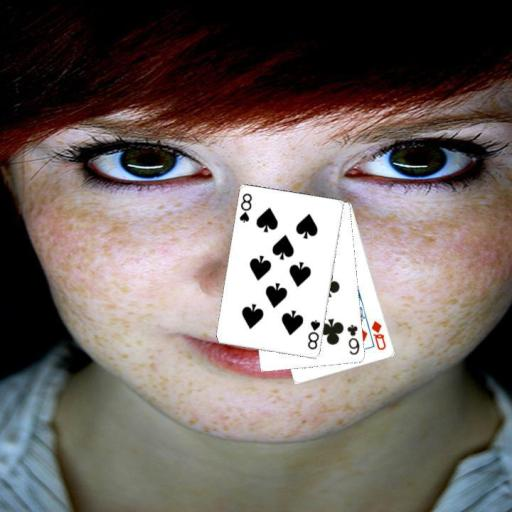6C: (344, 322, 361, 357)
8S: (304, 317, 322, 352), (237, 191, 254, 224)
QD: (369, 318, 388, 352)
